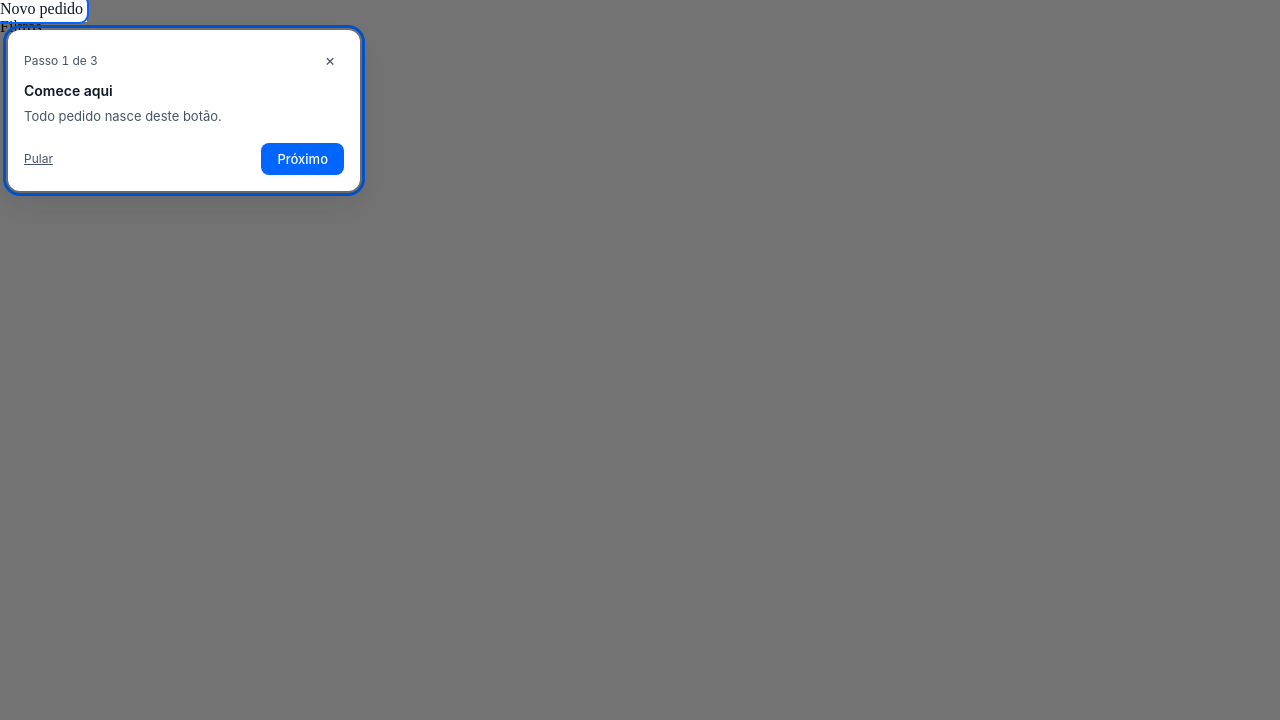
Test case: Tour › swaps next for finish on the last step, and drops skip
This screenshot has width=1280, height=720.
Click the button "Próximo": (303, 158) [261,142,344,174]
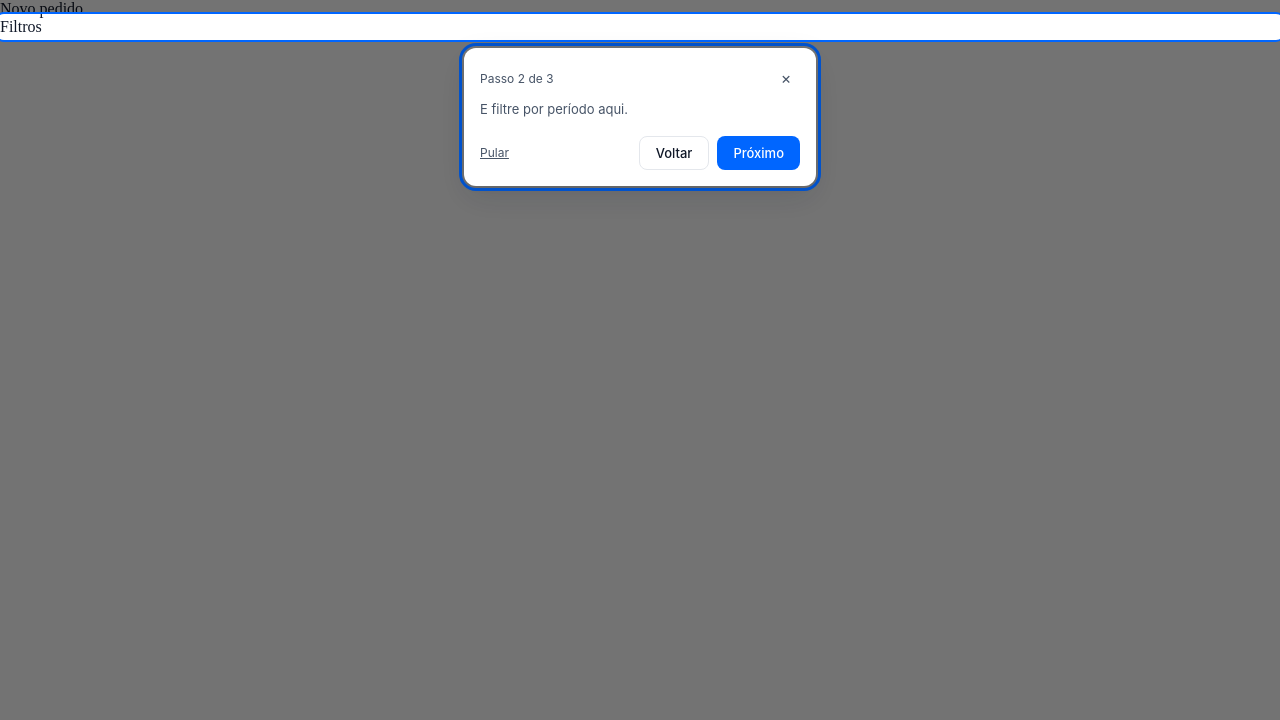
Click the button "Próximo": (759, 152) [717,136,800,170]
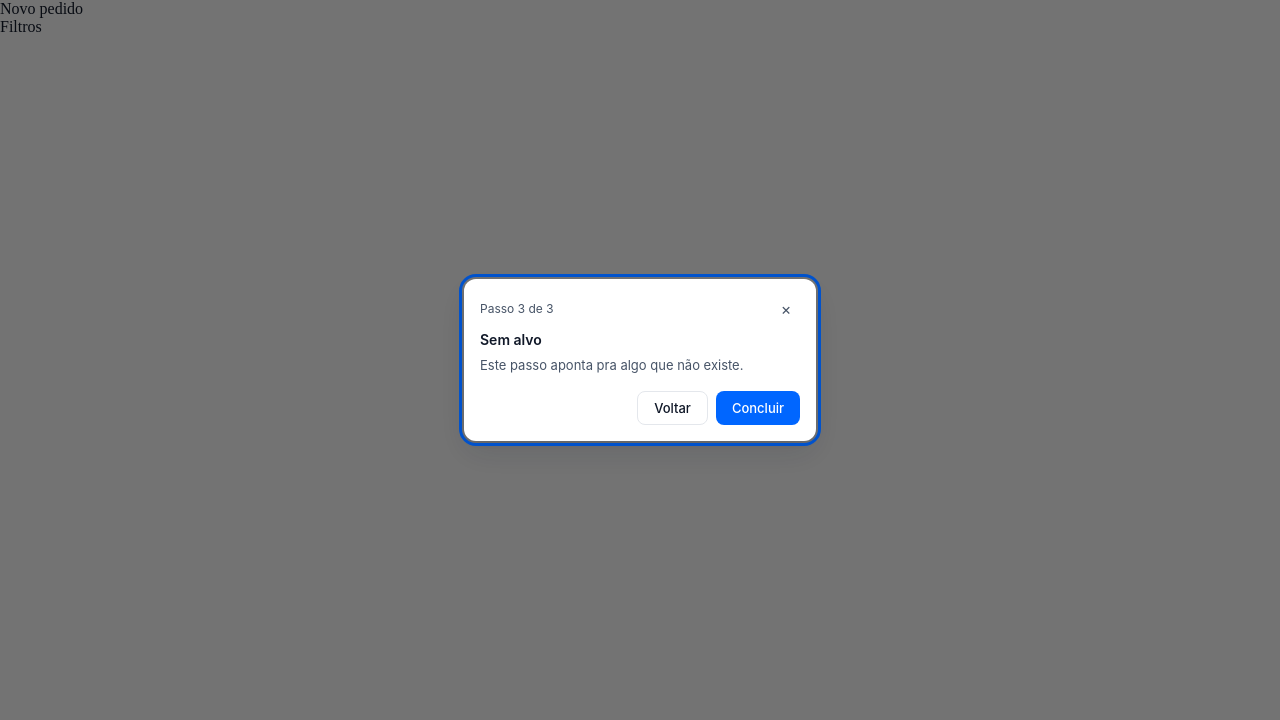
Expected: the button "Concluir" is shown, [716,391,800,425]
Expected: the button "Pular" is gone
